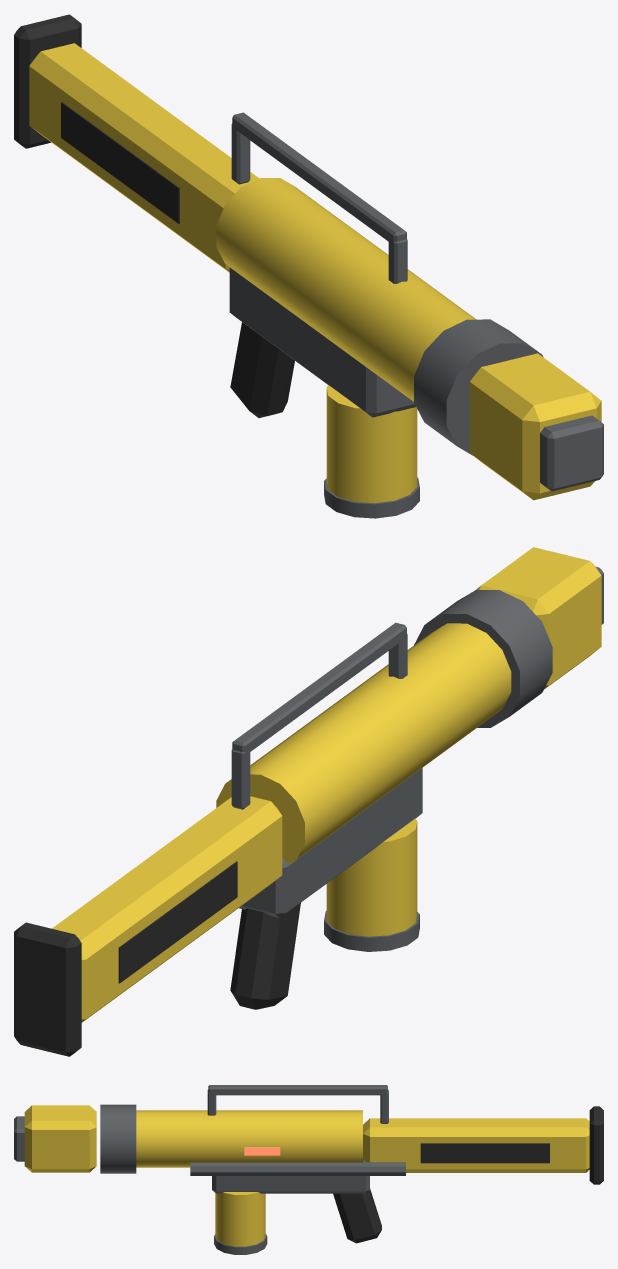
Rendered from weapon_rivet_driver.glb.
3 views of the same model, one above another, from view 1: azimuth 30°, elevation 25°; view 2: azimuth 150°, elevation 25°; view 3: azimuth 270°, elevation 25° (orthographic). The views are drawn at different scales.
Parts seen in each view (by area): view 1: weapon_rivet_driver; view 2: weapon_rivet_driver; view 3: weapon_rivet_driver.
Boxes of the visible parts, x1,y1,x2,y2 form: weapon_rivet_driver: (14, 14, 603, 518); weapon_rivet_driver: (14, 547, 603, 1056); weapon_rivet_driver: (14, 1085, 603, 1254).
Bounding box in the file's own units: 0.0936 × 0.242 × 0.82.
